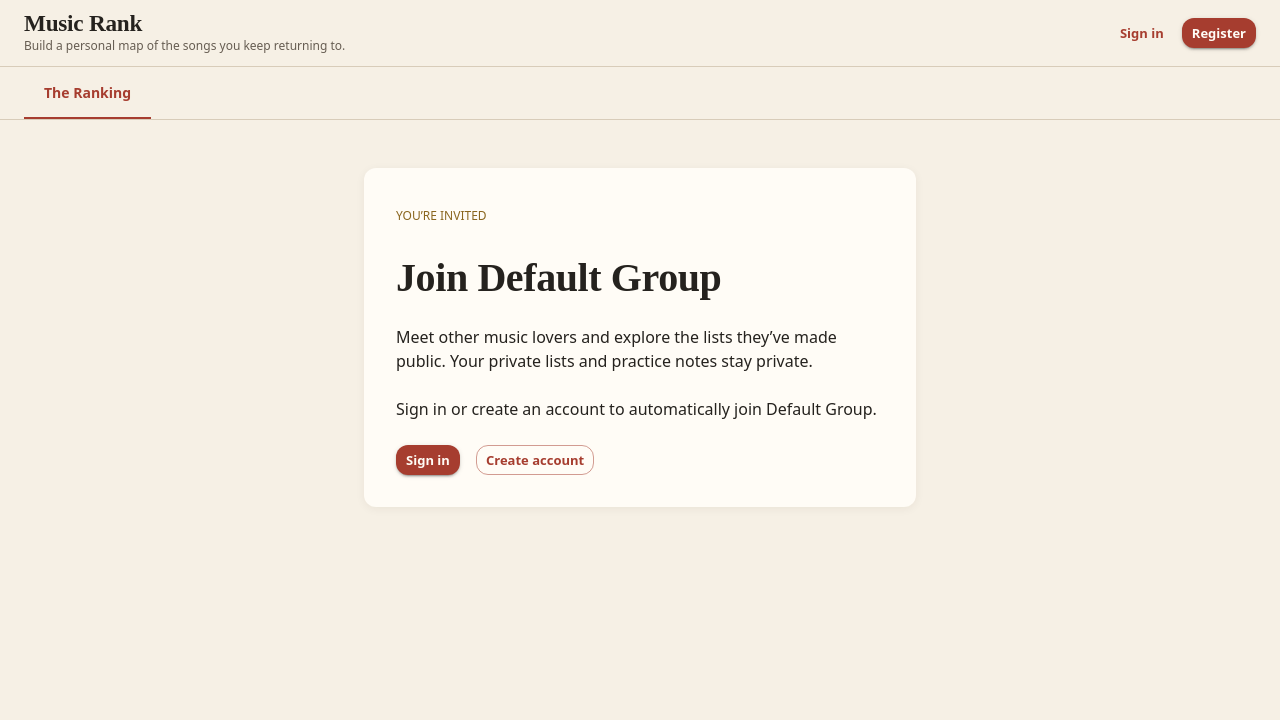
Test: Default invitation › retains the invitation after failed authentication and dialog cancellation without joining
expect the text "Sign in or create an account to automatically join Default Group." is shown: met, box [396,397,884,421]
Click the button "Sign in" below "You’re invited".
click(428, 460)  # box [396,445,460,476]
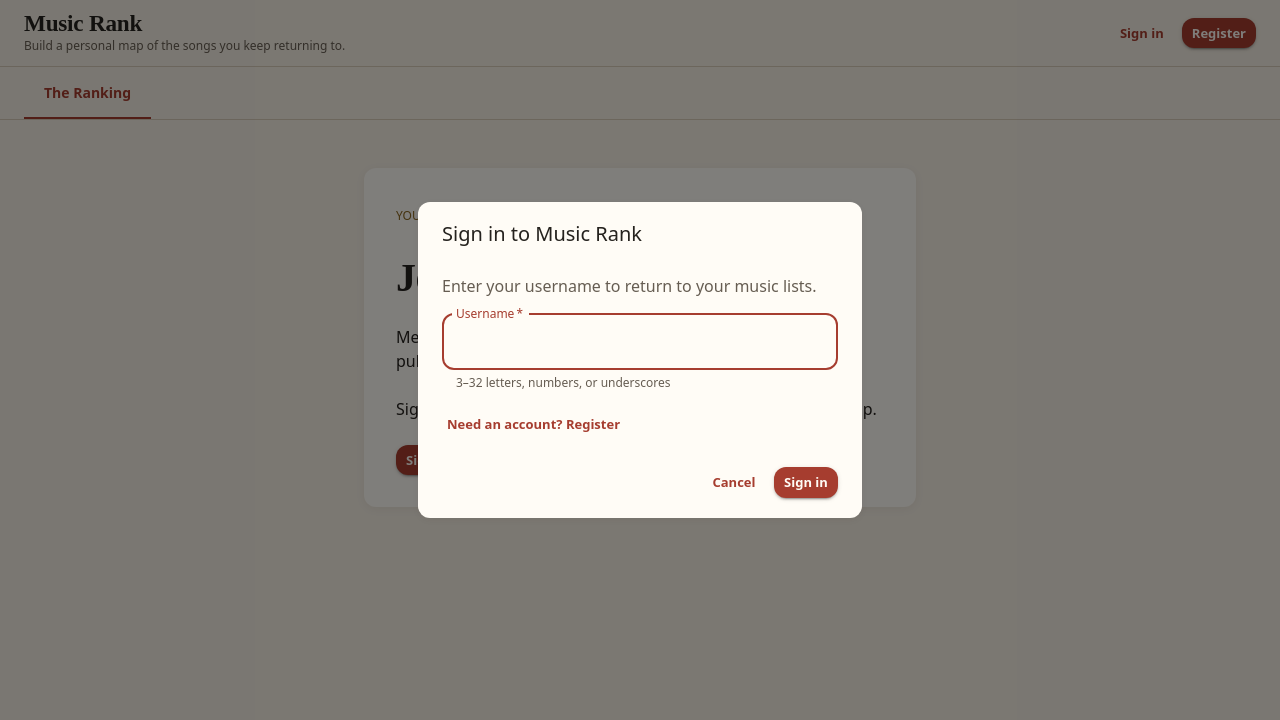
expect the dialog is shown: met, box [418,202,862,518]
Type "listener_1" into the field labelled "Username *".
click(640, 342); type("listener_1")  # box [442,314,838,370]
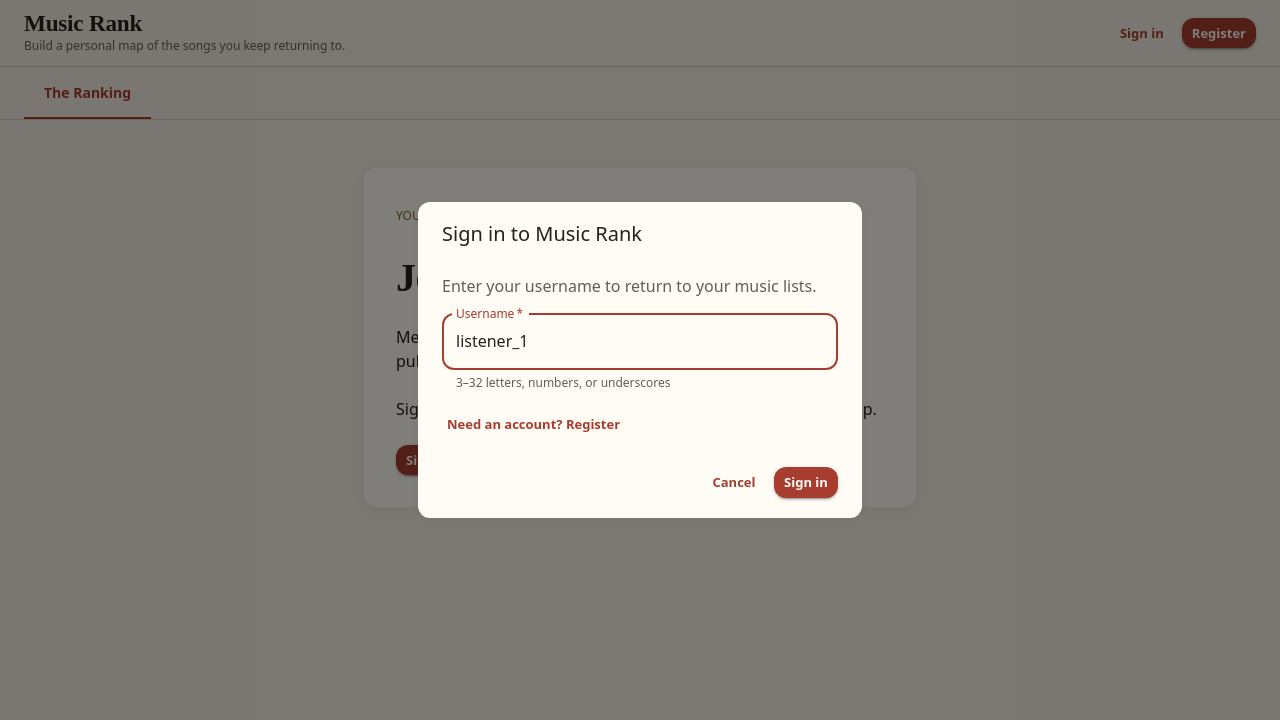
Click the button "Sign in".
click(806, 483)  # box [774,468,838,498]
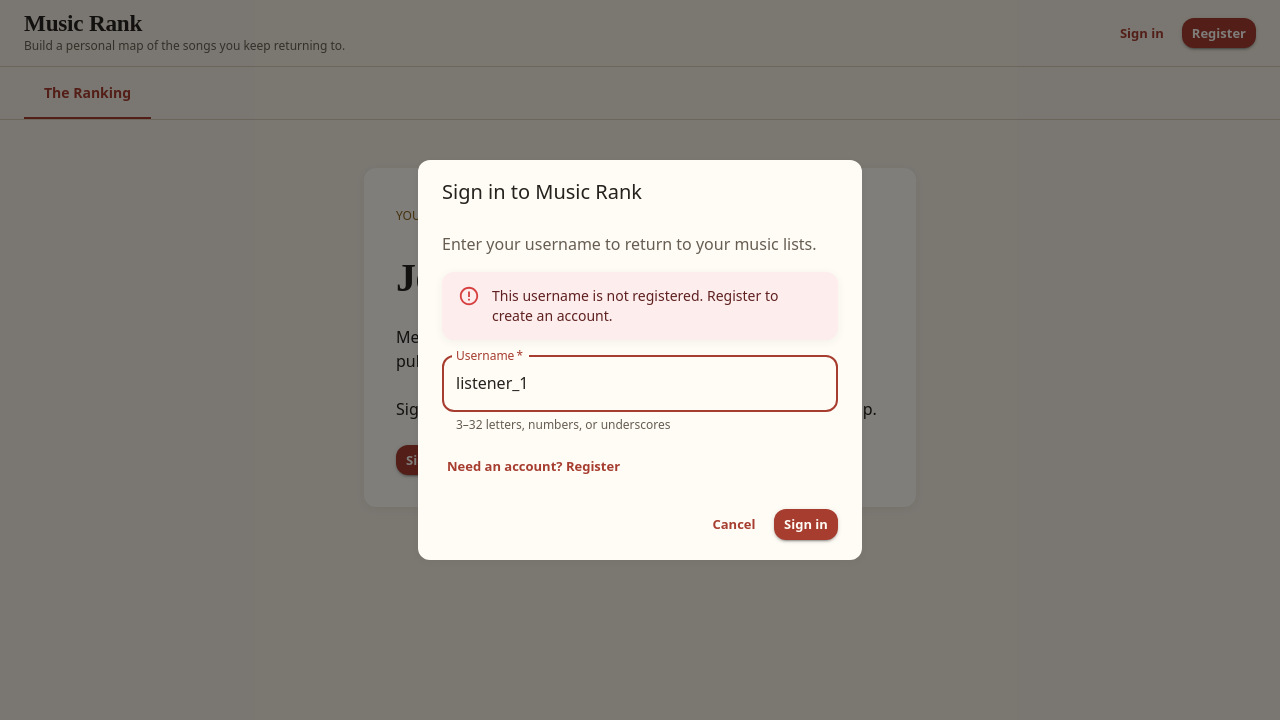
expect the text "This username is not registered. Register to create an account." is shown: met, box [492,278,822,334]
Click the button "Cancel".
click(734, 525)  # box [702,510,766,540]
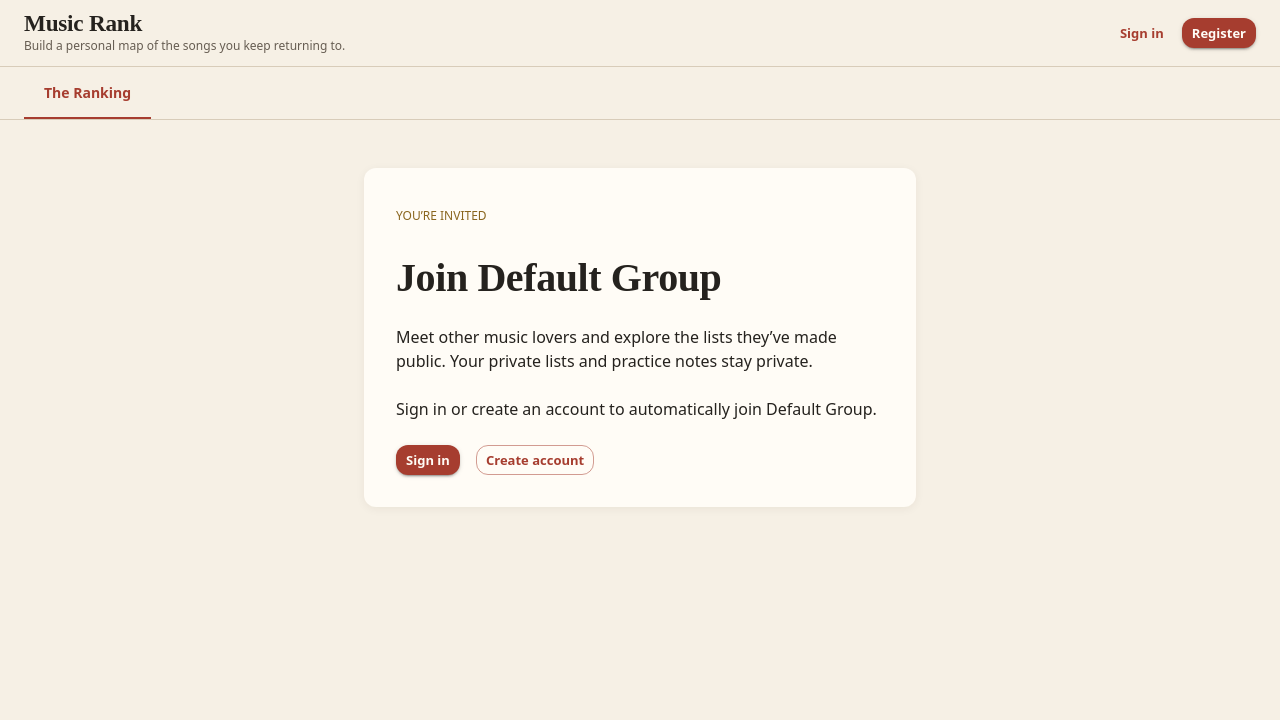
expect the dialog is gone: met
